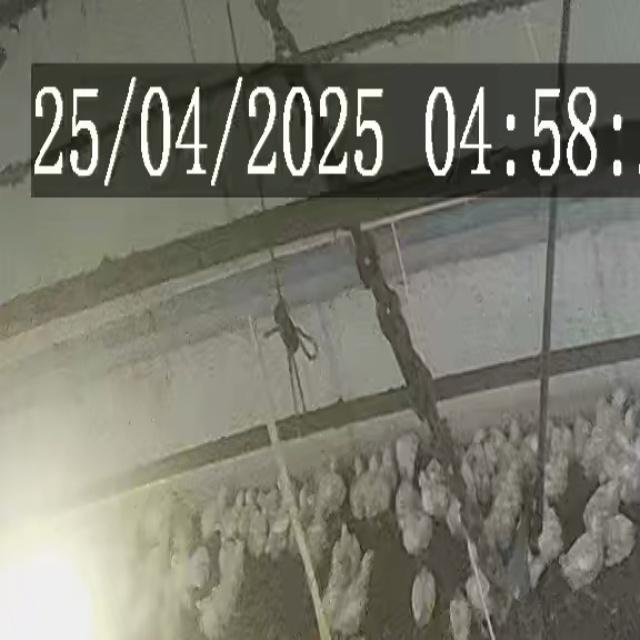chicken: (562, 516, 604, 595), (599, 511, 640, 565), (406, 568, 441, 629), (398, 505, 433, 560), (586, 479, 621, 528), (444, 590, 478, 640), (543, 506, 562, 565)
